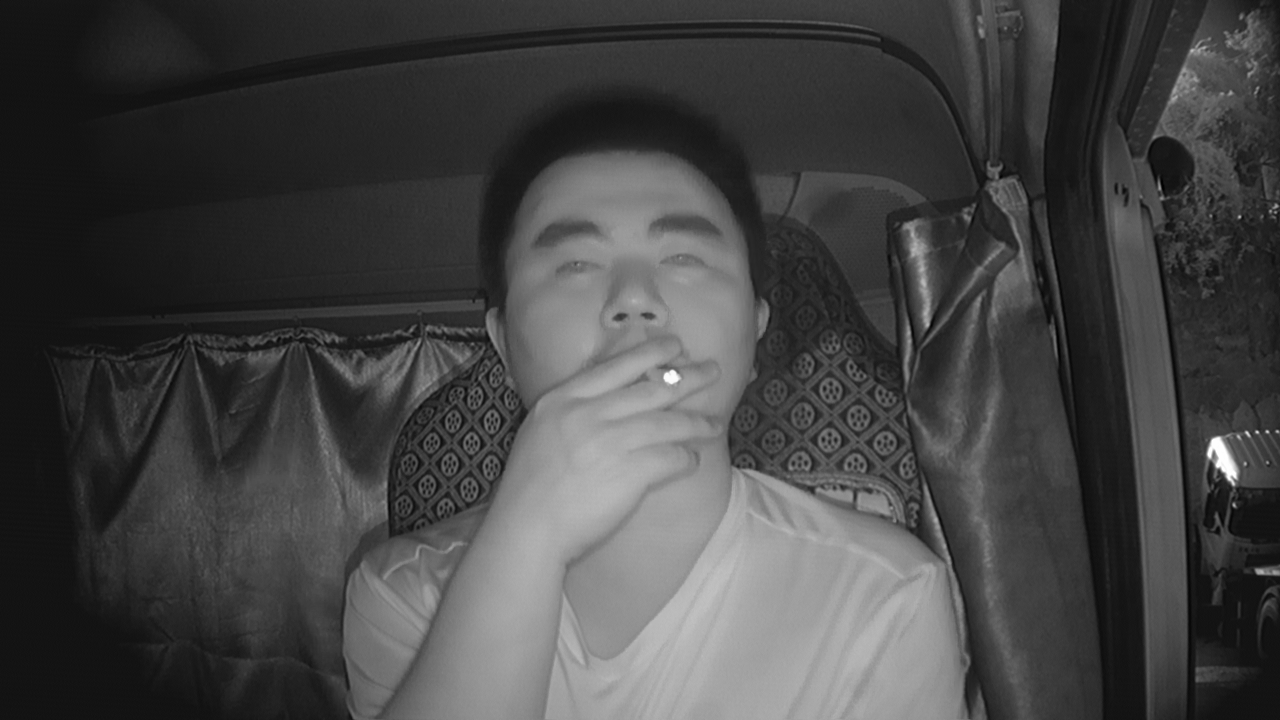hand: (571, 334, 721, 490)
